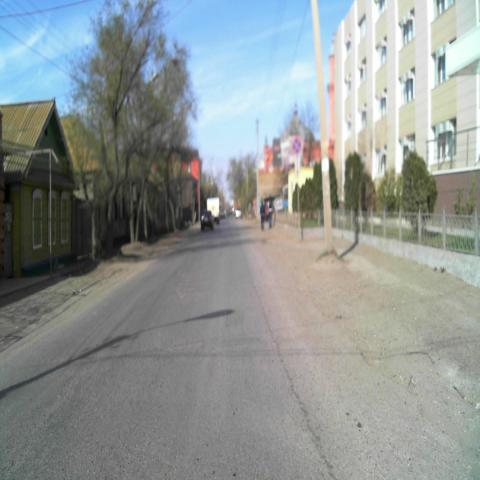3_27: (292, 136, 301, 152)
